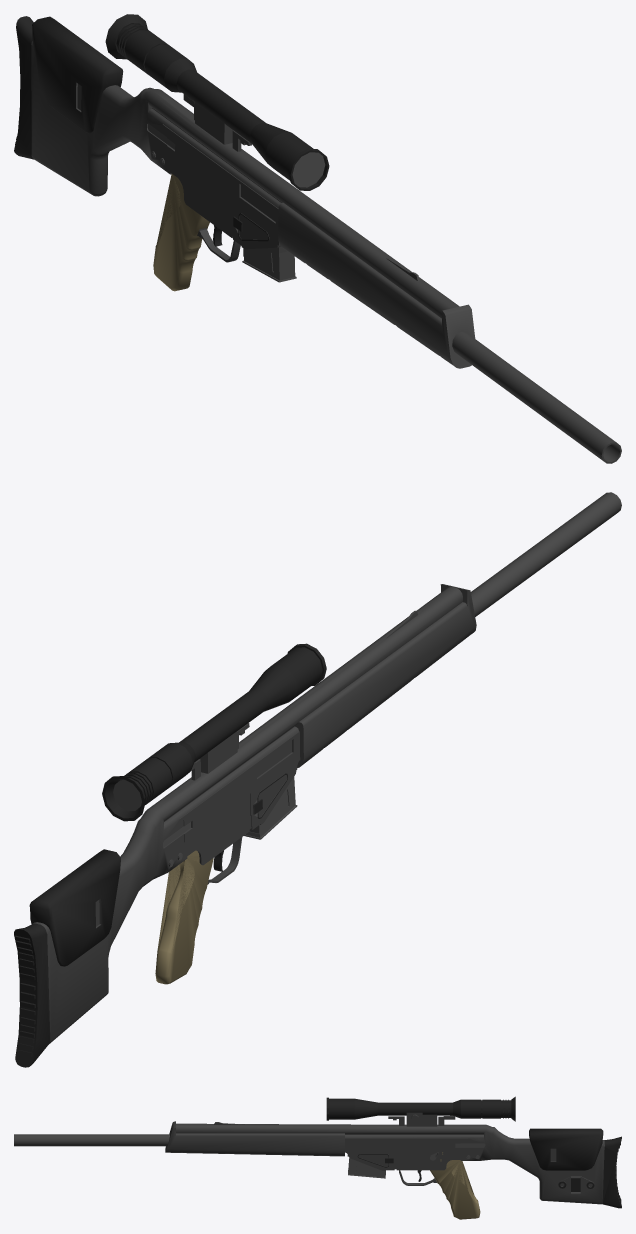
Rendered from PSG1.fbx.
The picture shows the model from 3 angles, top to bottom: view 1: azimuth 30°, elevation 25°; view 2: azimuth 150°, elevation 25°; view 3: azimuth 270°, elevation 25°; orthographic projection. The views are drawn at different scales.
Visible parts, largest first — view 1: FRANCO1; view 2: FRANCO1; view 3: FRANCO1.
Boxes of the visible parts, x1=… form: FRANCO1: x1=14, y1=14, x2=621, y2=463; FRANCO1: x1=14, y1=492, x2=621, y2=1067; FRANCO1: x1=14, y1=1096, x2=621, y2=1219.
Bounding box in the file's own units: 1.27 × 6.67 × 30.12.
